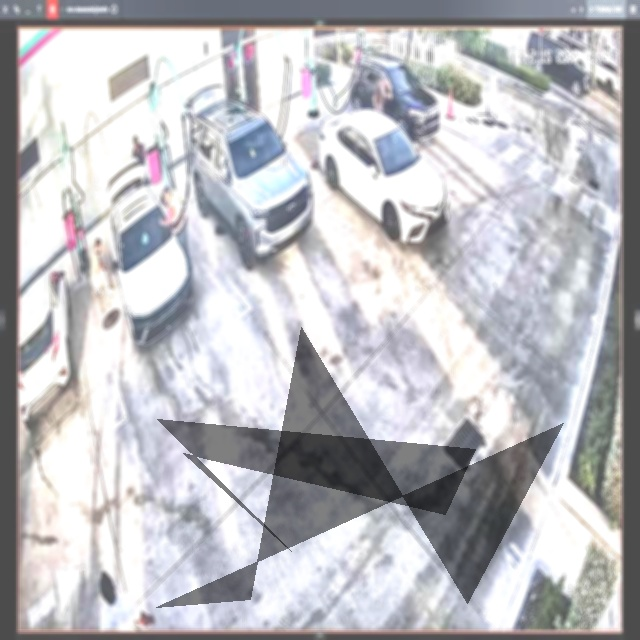Car: (189, 88, 312, 268), (318, 104, 450, 244), (107, 163, 191, 344)
